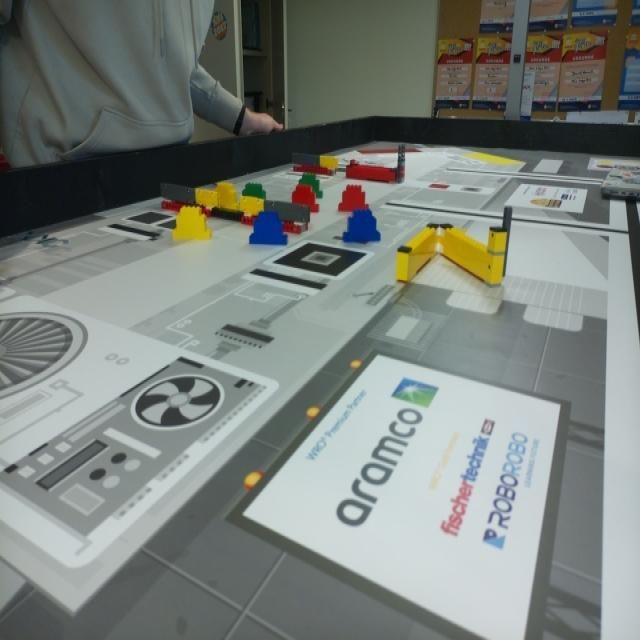blau: (250, 213, 288, 244), (344, 213, 380, 244)
gruen: (299, 170, 323, 193), (242, 182, 267, 198)
rot: (338, 186, 368, 212), (291, 187, 319, 213)
yellow: (173, 209, 208, 242), (218, 183, 238, 208)
